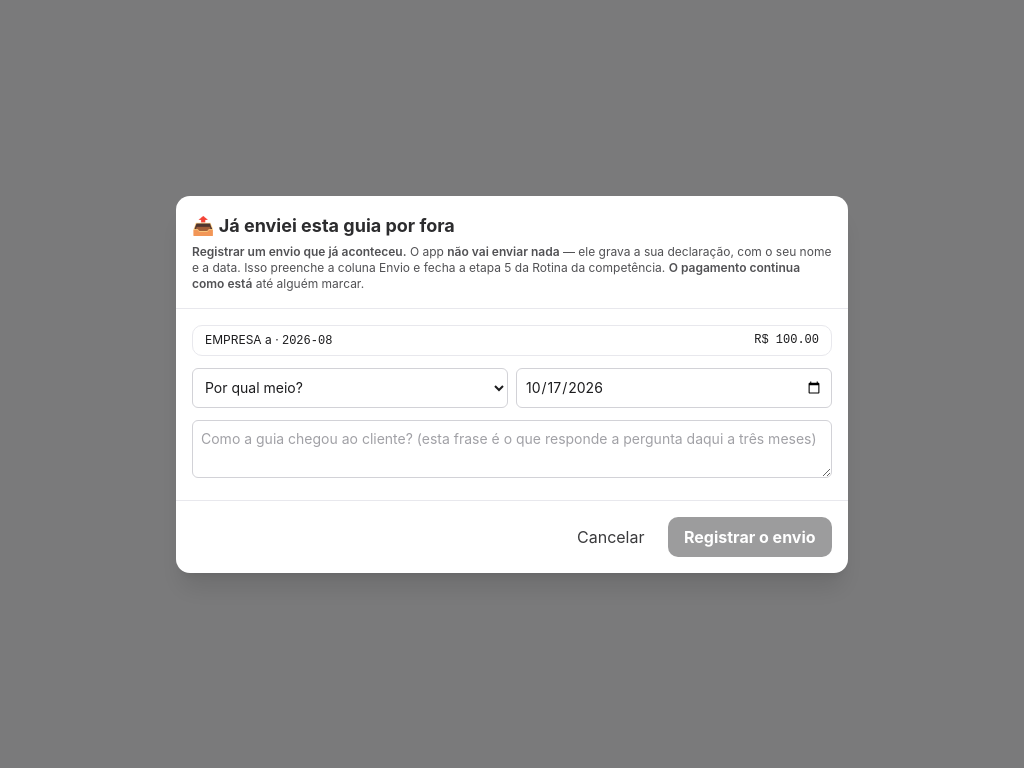
Test: 📤 a porta do envio declarado na Central de DAS › o botão só libera com meio + data + texto — e manda os ids do lote
The image size is (1024, 768).
Expected: the button "Registrar o envio" is disabled, [668, 516, 832, 556]
Select "WhatsApp pessoal / do escritório" in the dropdown named "Por qual meio?" at (350, 388), box [192, 368, 508, 408]
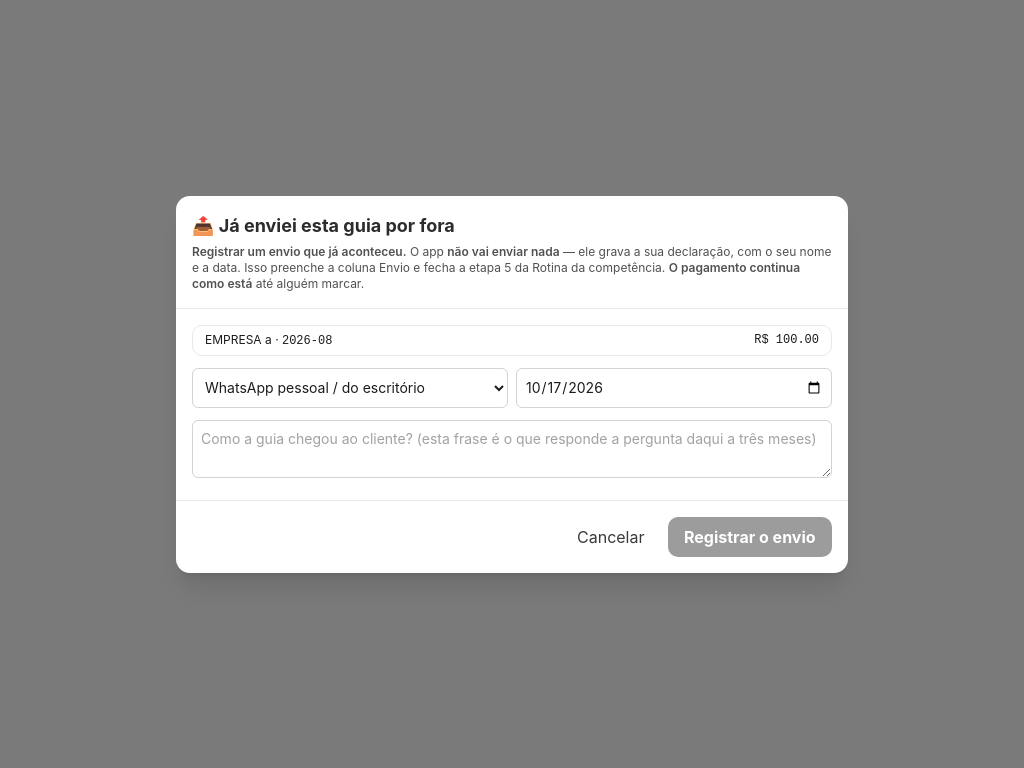
Type "2026-09-10" into the date field named "Quando a guia saiu?" at (674, 388), box [516, 368, 832, 408]
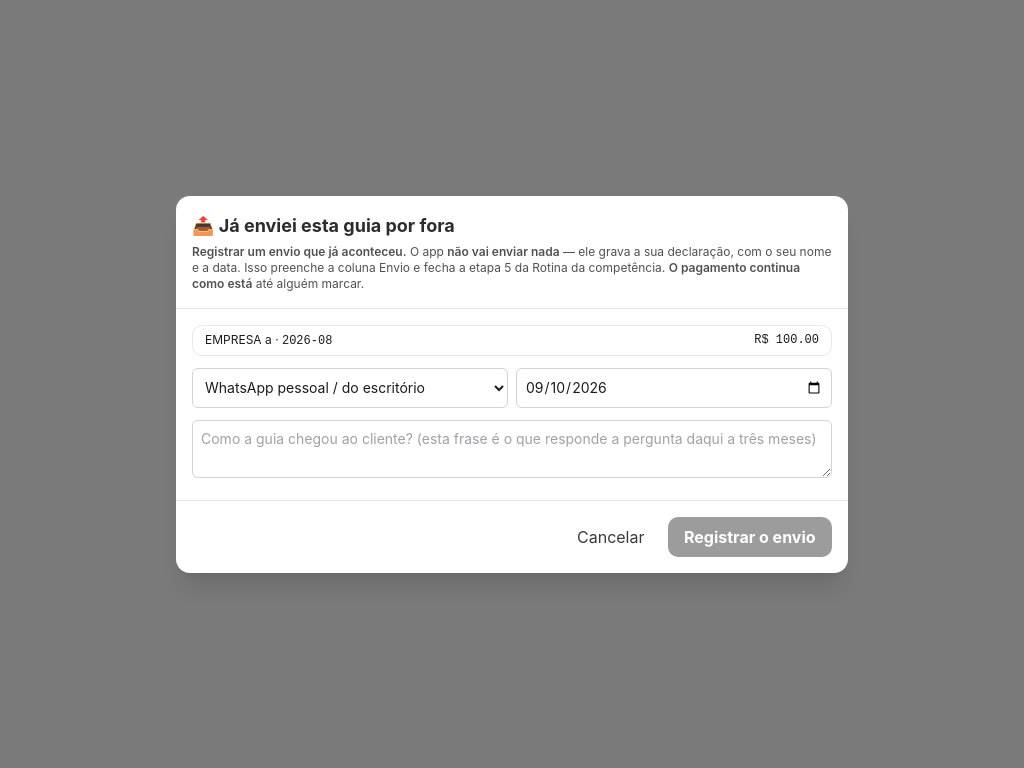
Expected: the button "Registrar o envio" is disabled, [668, 516, 832, 556]
Replace the text in the text box labelled "Como a guia chegou ao cliente?" with "Mandei pelo WhatsApp do escritório." at (512, 448), box [192, 420, 832, 478]
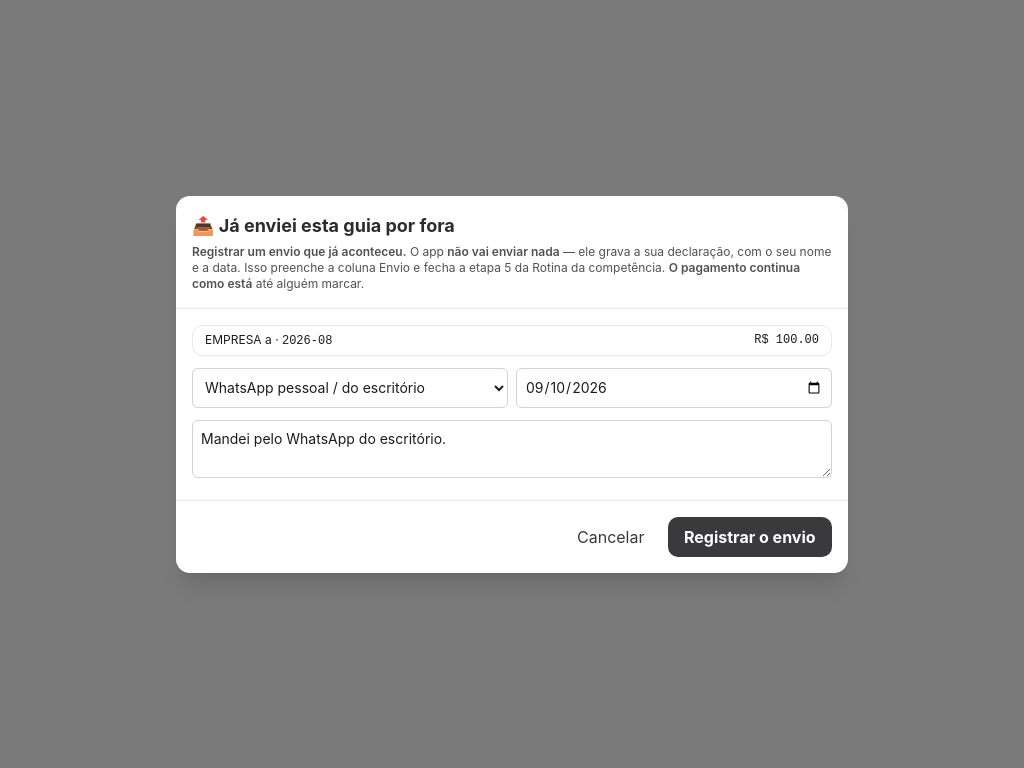
Now the button "Registrar o envio" is enabled
Click the button "Registrar o envio" at (750, 536), box [668, 516, 832, 556]
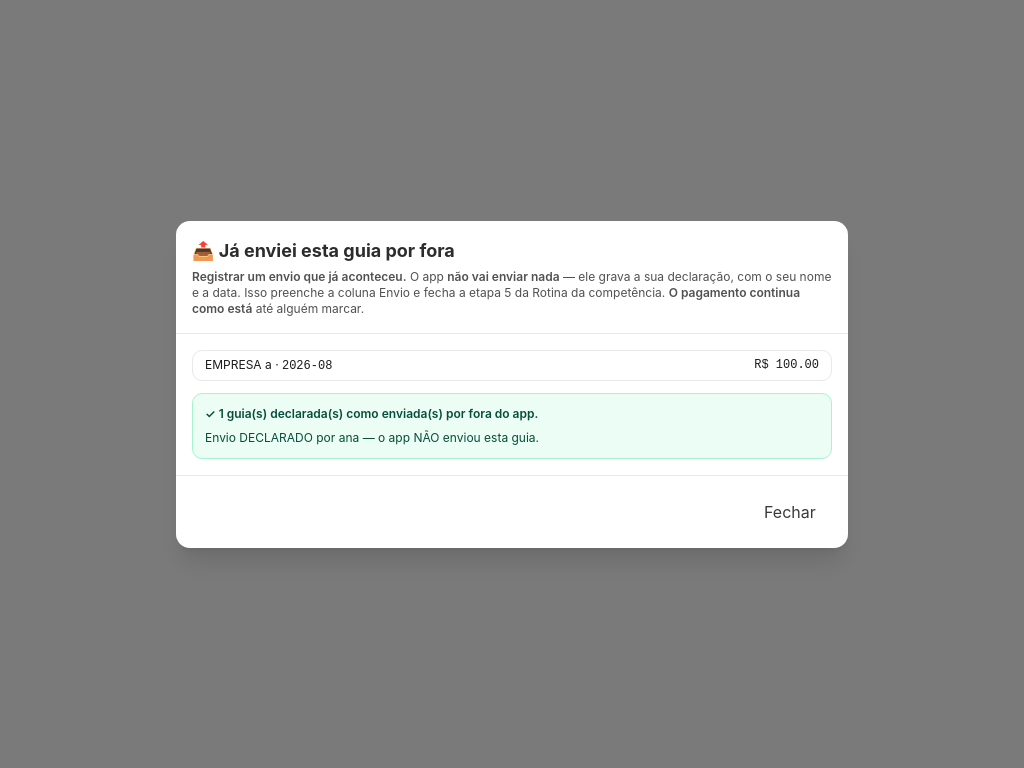
Now the text "Envio DECLARADO por ana — o app NÃO enviou esta guia." is shown, box [205, 430, 539, 444]
